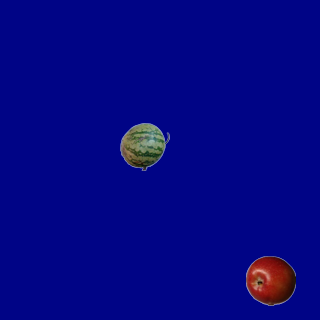Apple Braeburn: (245, 255, 295, 305)
Watermelon: (119, 121, 169, 171)
